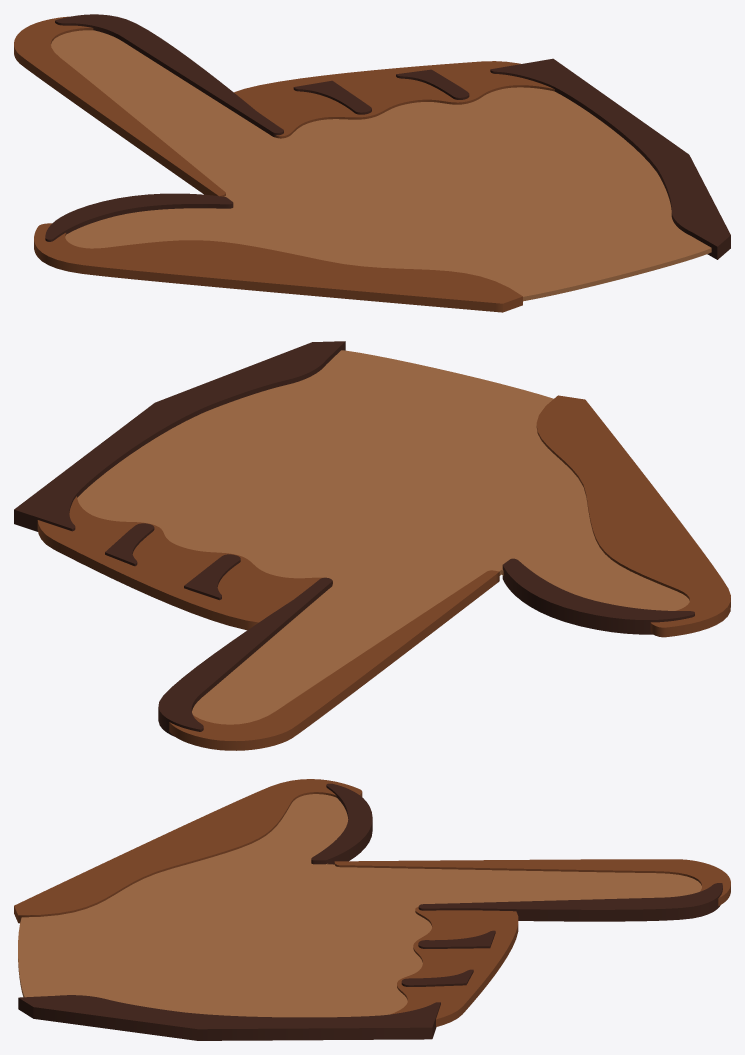
File: emoji_u1f446_1f3fe.glb
3 renders of one model, top to bottom at view 1: azimuth 30°, elevation 25°; view 2: azimuth 150°, elevation 25°; view 3: azimuth 270°, elevation 25°, orthographic. The views are drawn at different scales.
Visible parts, largest first — view 1: emoji_u1f446_1f3fe; view 2: emoji_u1f446_1f3fe; view 3: emoji_u1f446_1f3fe.
Part boxes in pixels (x1,y1,x2,y2): emoji_u1f446_1f3fe: (14, 14, 730, 312); emoji_u1f446_1f3fe: (14, 341, 730, 750); emoji_u1f446_1f3fe: (14, 779, 730, 1040).
Bounding box in the file's own units: 0.0276 × 0.0006 × 0.0331.
